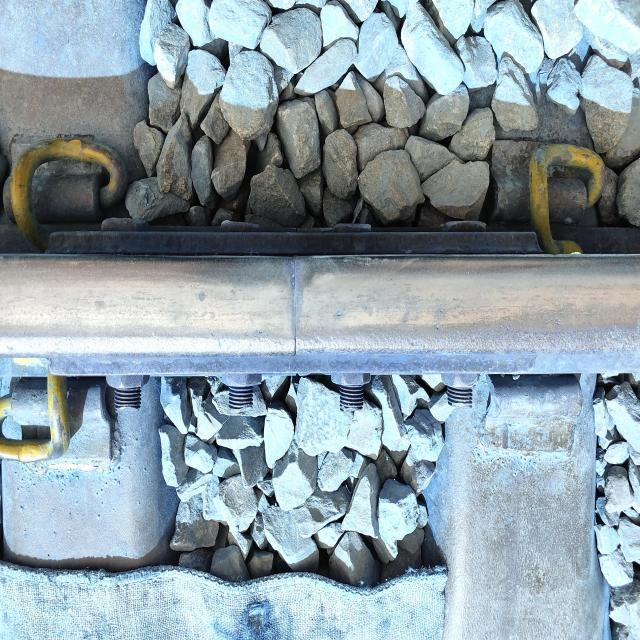Good Fasteners: (0, 106, 142, 245), (496, 132, 630, 256), (0, 363, 118, 481)
Good Joint: (53, 224, 567, 407)
Missing Fastener: (485, 375, 582, 467)
